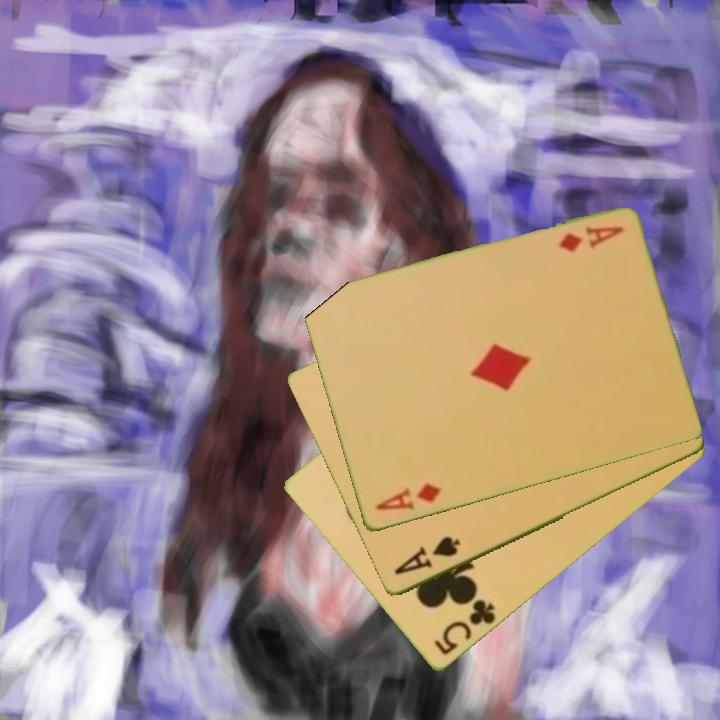5c: (430, 596, 499, 659)
Ad: (371, 480, 444, 514), (555, 223, 626, 256)
As: (390, 533, 463, 579)
